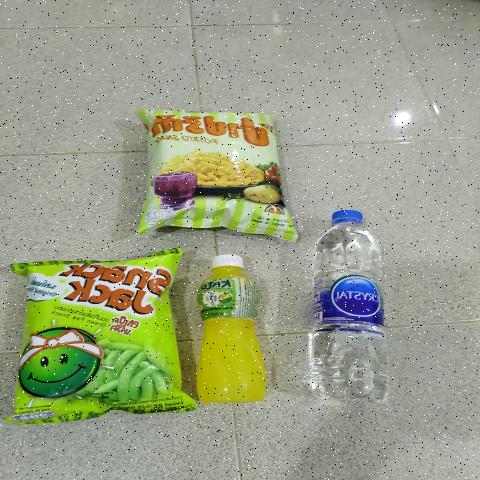crystal: (314, 204, 382, 400)
paprika: (22, 263, 174, 398), (140, 106, 297, 234)
